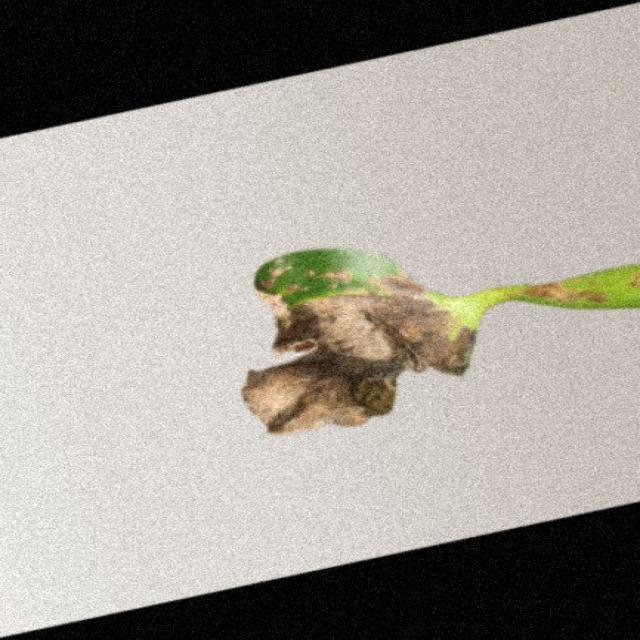daun berpenyakit karat: (242, 249, 638, 433)
